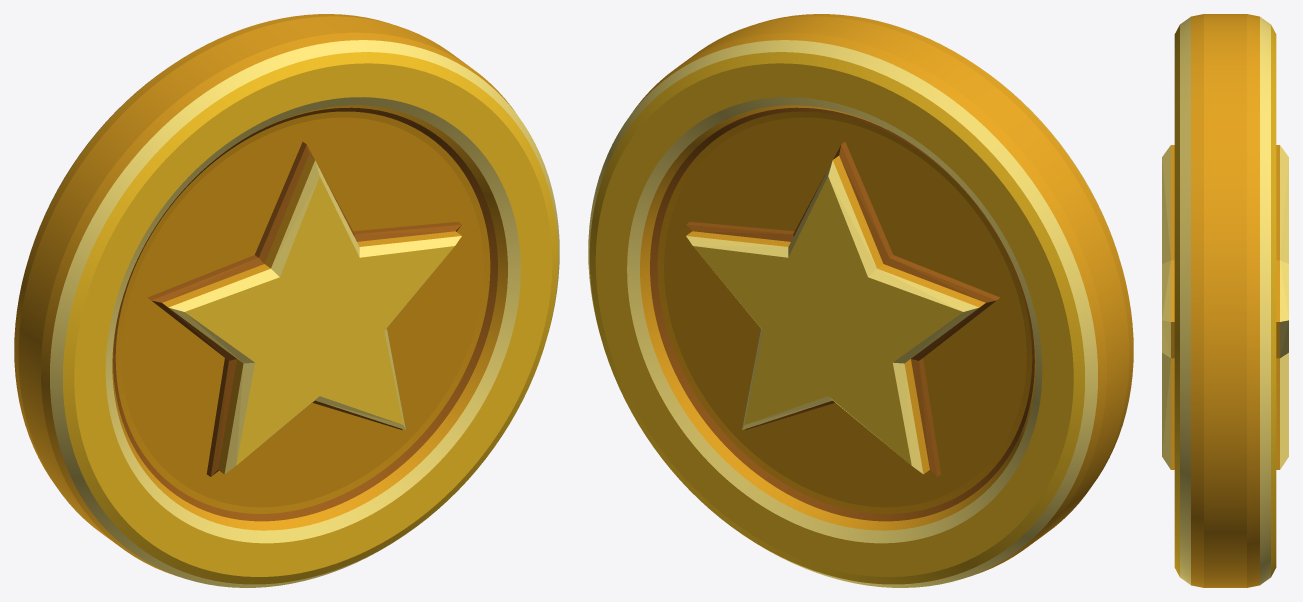
Rendered from StarCoin.glb.
The picture shows the model from 3 angles, left to right: view 1: azimuth 30°, elevation 25°; view 2: azimuth 150°, elevation 25°; view 3: azimuth 270°, elevation 25°; orthographic projection. The views are drawn at different scales.
Visible parts, largest first — view 1: StarCoin; view 2: StarCoin; view 3: StarCoin.
Boxes of the visible parts, x1=… form: StarCoin: x1=14, y1=14, x2=559, y2=587; StarCoin: x1=588, y1=14, x2=1133, y2=587; StarCoin: x1=1162, y1=14, x2=1288, y2=587.
Bounding box in the file's own units: 0.26 × 0.26 × 0.0575.
